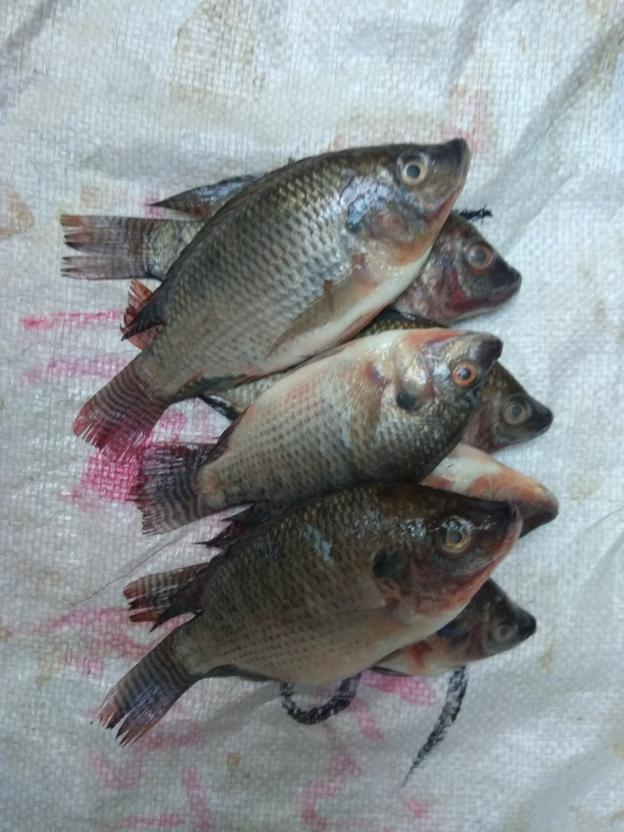Fish head: (372, 484, 525, 626), (340, 136, 470, 269), (391, 211, 522, 325), (392, 326, 502, 427), (435, 578, 539, 665), (460, 362, 555, 454)
Fish tail: (98, 629, 205, 746), (70, 358, 174, 460), (122, 440, 221, 535), (56, 212, 161, 282), (124, 559, 207, 624)
